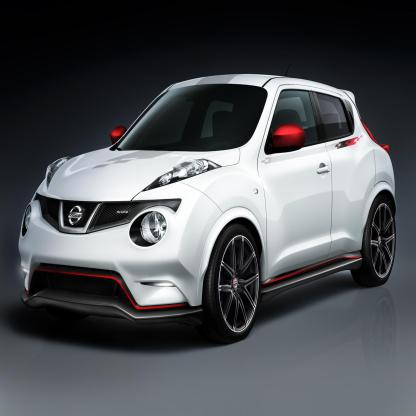Vehicle: (19, 73, 399, 343)
